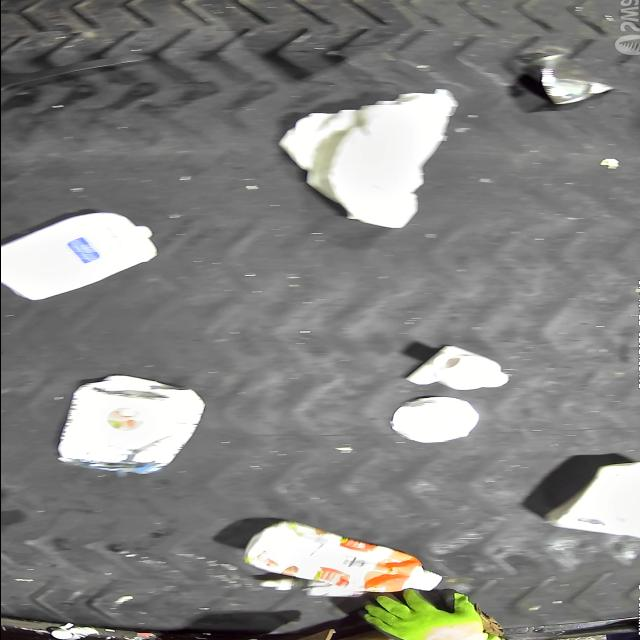can: (385, 396, 479, 444), (528, 52, 610, 105)
milk_jug: (542, 461, 640, 538)
non_white_jug: (0, 212, 158, 300)
